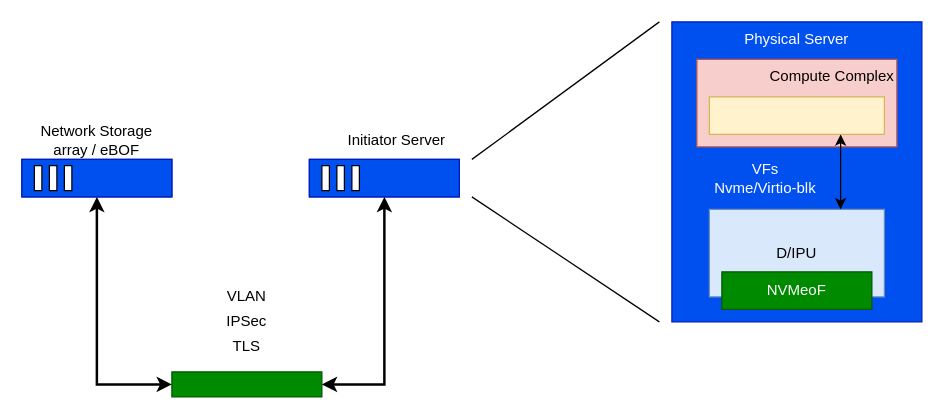
Image size: 944x419. Some labels were removed from this diagram. Here are the shapes that lost their labels. From the top down, the centre of each, then its label:
(x=796, y=115): Container(s)
(x=246, y=384): Switch
